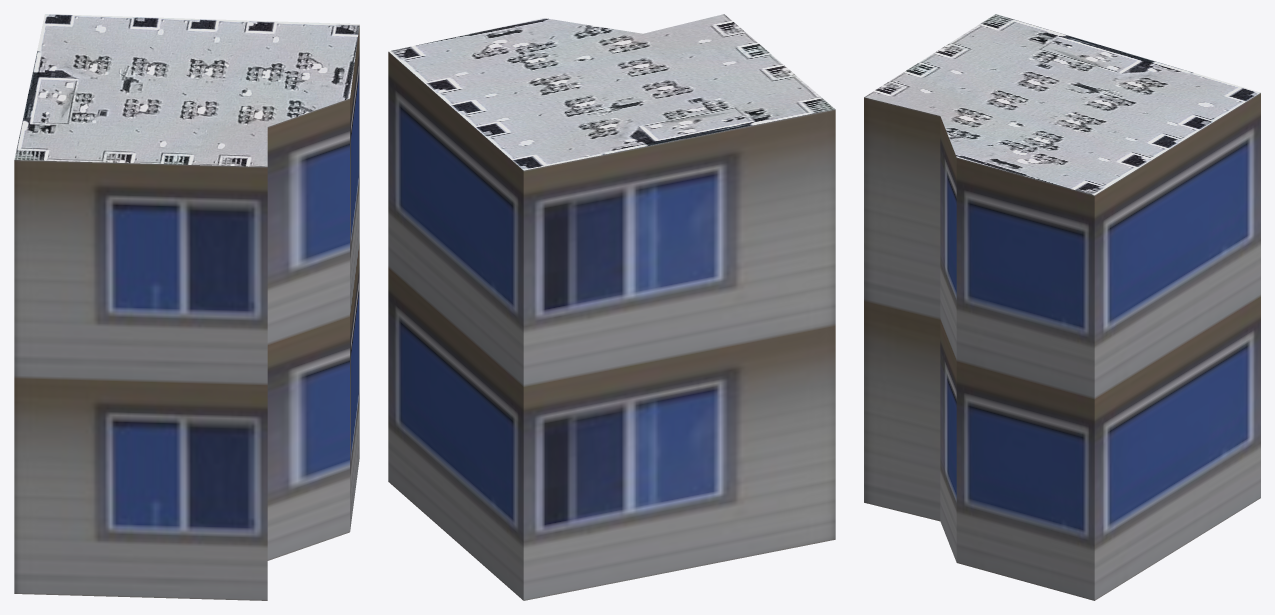
The model's file is ResTex__3628.fbx.
3 renders of one model, left to right at view 1: azimuth 30°, elevation 25°; view 2: azimuth 150°, elevation 25°; view 3: azimuth 270°, elevation 25°, orthographic. The views are drawn at different scales.
Visible parts, largest first — view 1: CityEngineMaterial_23_m, CityEngineMaterial_4_m; view 2: CityEngineMaterial_23_m, CityEngineMaterial_4_m; view 3: CityEngineMaterial_23_m, CityEngineMaterial_4_m.
Part boxes in pixels (left/top/right/bottom): CityEngineMaterial_23_m: left=14, top=25, right=359, bottom=600; CityEngineMaterial_4_m: left=14, top=14, right=359, bottom=166; CityEngineMaterial_23_m: left=388, top=52, right=835, bottom=600; CityEngineMaterial_4_m: left=388, top=14, right=834, bottom=170; CityEngineMaterial_23_m: left=864, top=93, right=1260, bottom=600; CityEngineMaterial_4_m: left=864, top=14, right=1260, bottom=195.
Bounding box in the file's own units: 5.76 × 6 × 5.32.
Materials: 2 (2 with a texture image).
